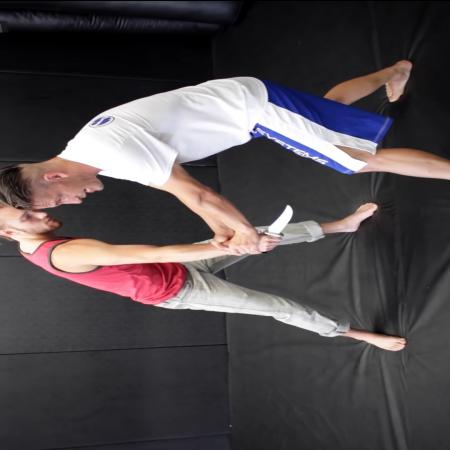long weapon: (256, 202, 298, 255)
